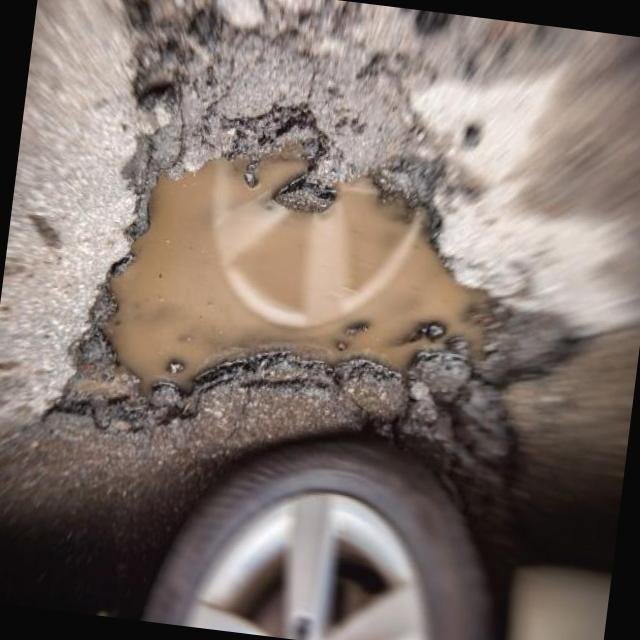pothole: (39, 100, 520, 488)
